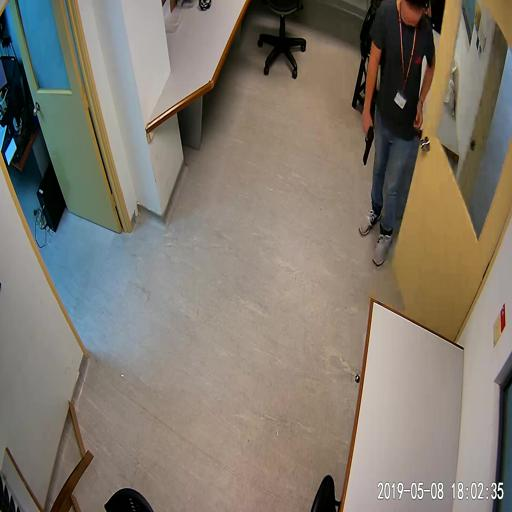pistol: (363, 123, 374, 165)
